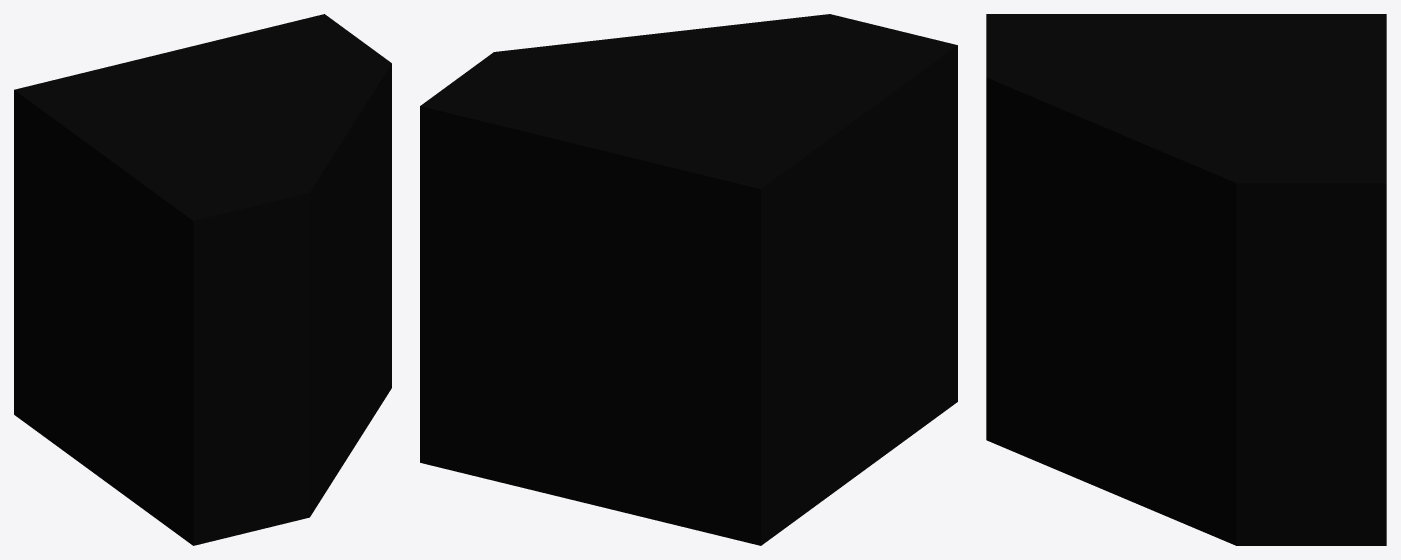
File: r3c8_bode_black.glb
The picture shows the model from 3 angles, left to right: view 1: azimuth 30°, elevation 25°; view 2: azimuth 150°, elevation 25°; view 3: azimuth 270°, elevation 25°; orthographic projection. The views are drawn at different scales.
Parts seen in each view (by area): view 1: r3c8_bode_black; view 2: r3c8_bode_black; view 3: r3c8_bode_black.
Part boxes in pixels (x1,y1,x2,y2): r3c8_bode_black: (14, 14, 391, 545); r3c8_bode_black: (420, 14, 957, 545); r3c8_bode_black: (986, 14, 1386, 545).
Size of what is drawn, in the model's own units: 2 by 2 by 2.
Materials: 1 (1 with a texture image).
